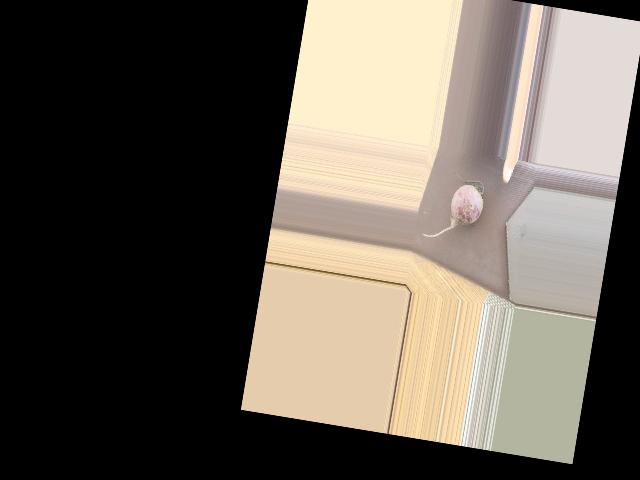beet: (422, 168, 487, 245)
